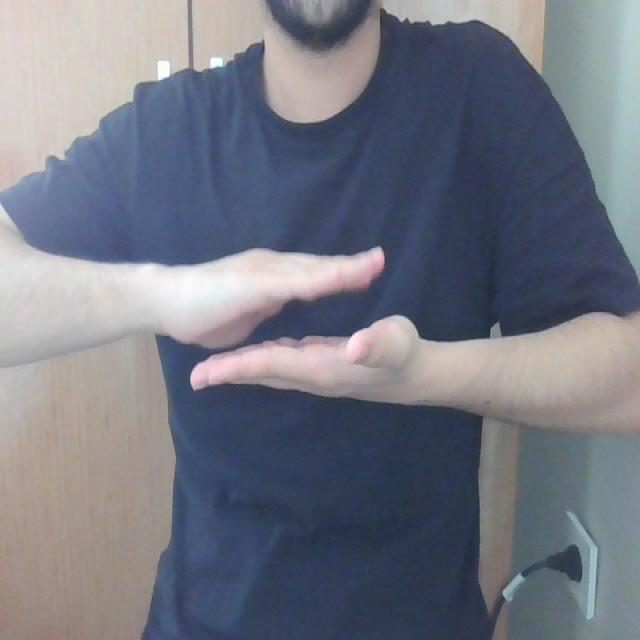Arkadas: (2, 239, 640, 420)
